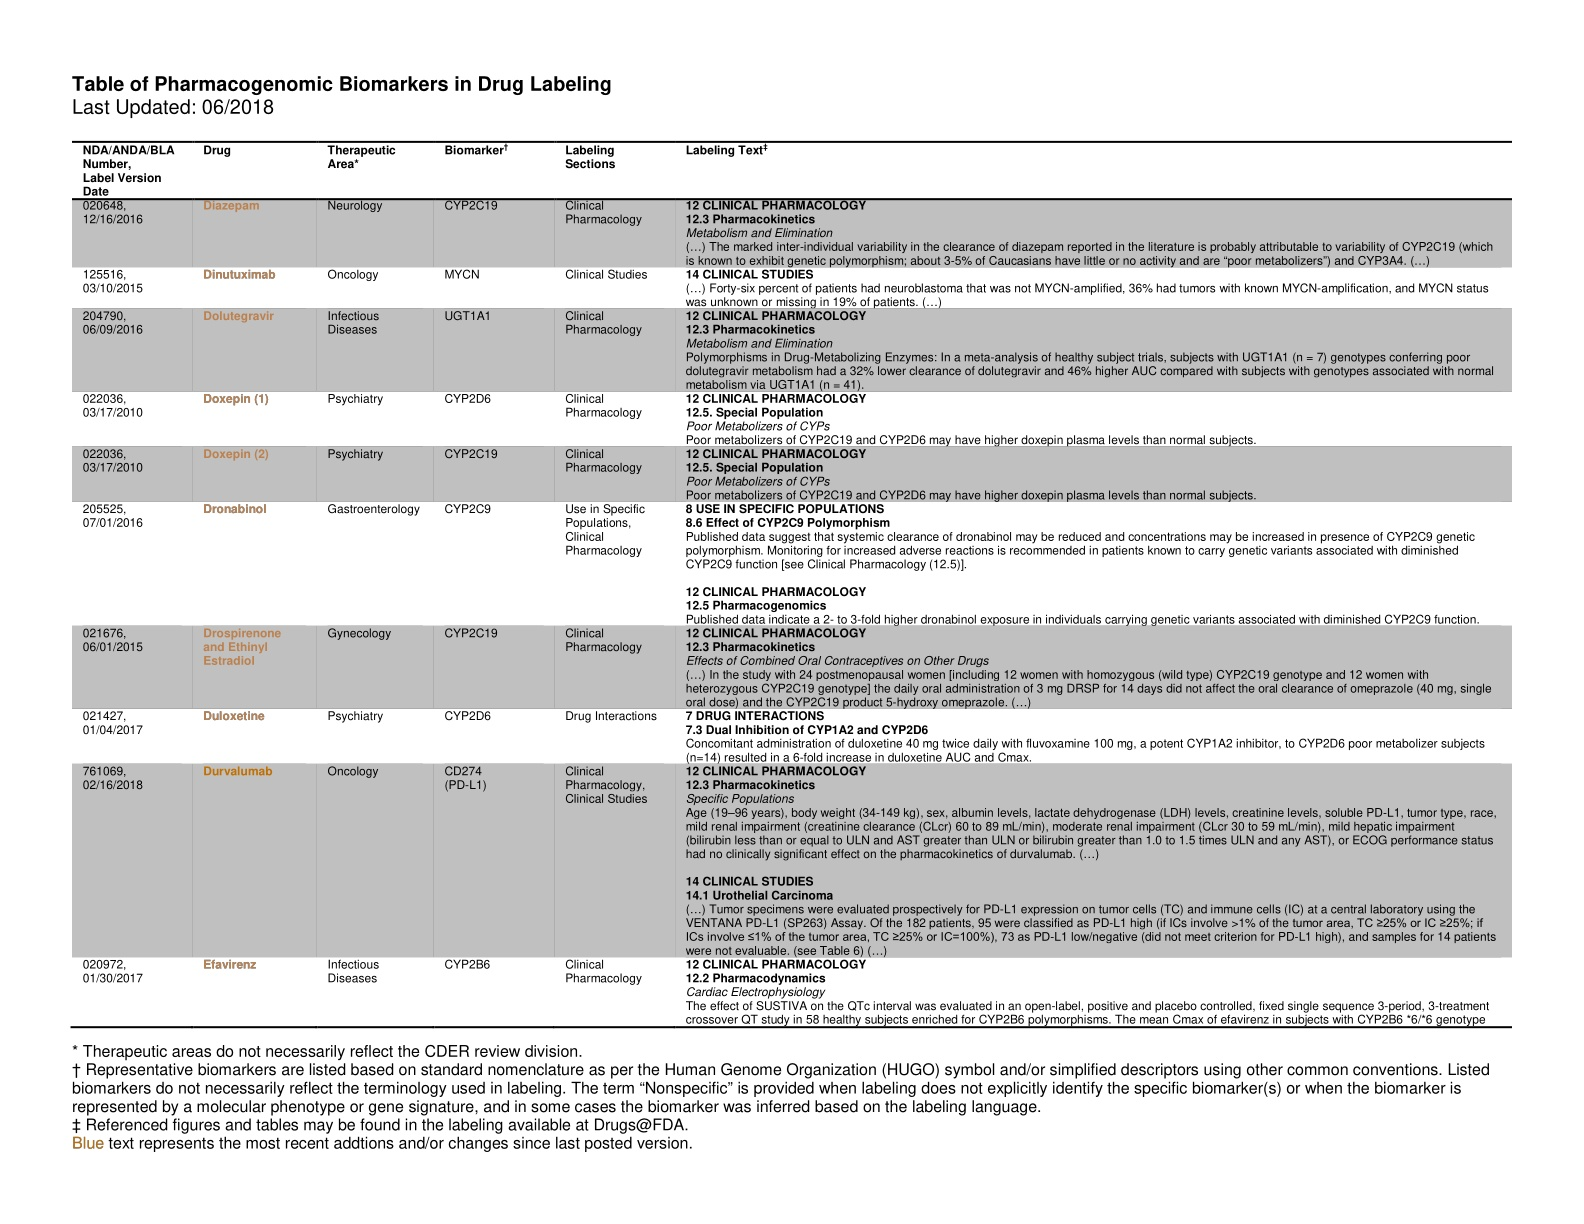partial_lined: (71, 140, 1513, 1029)
